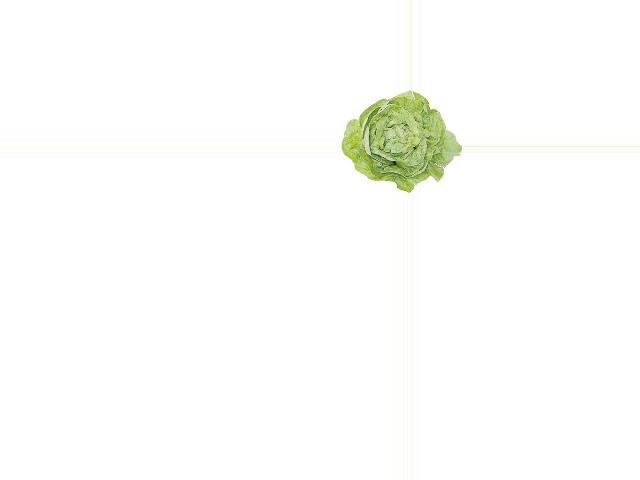lettuce: (340, 91, 458, 192)
